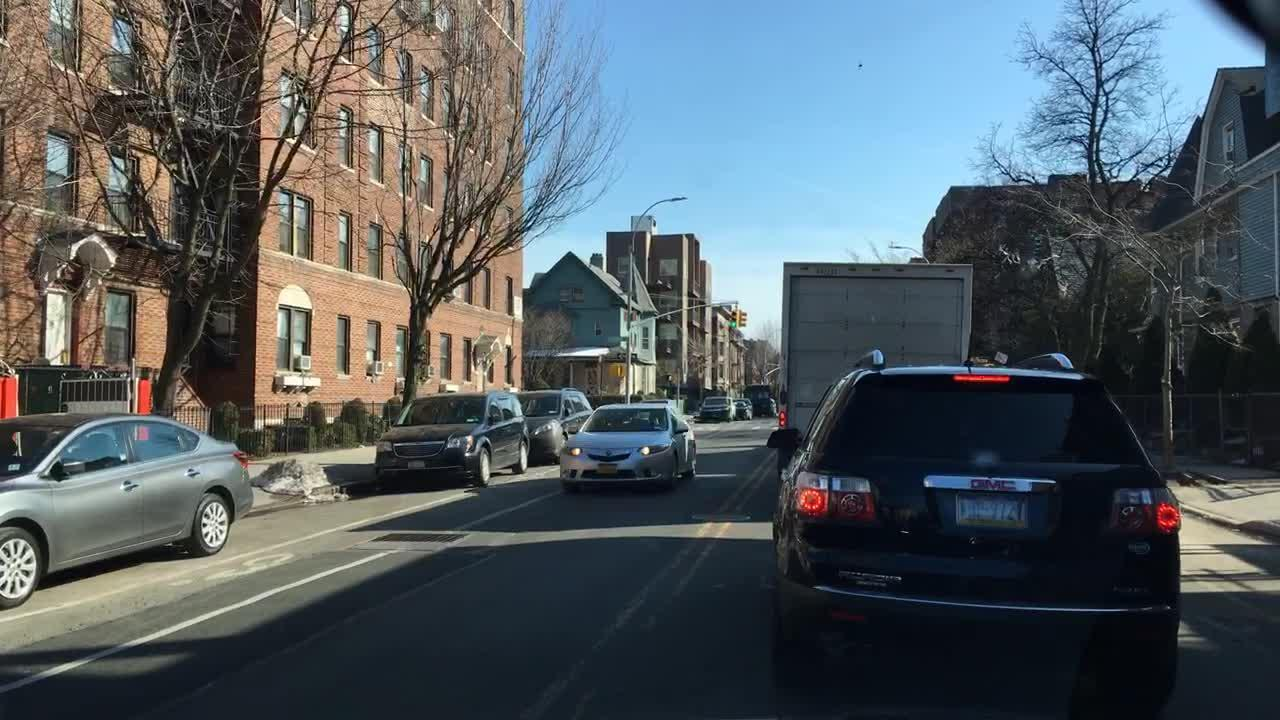GMC: (964, 474, 1032, 495)
